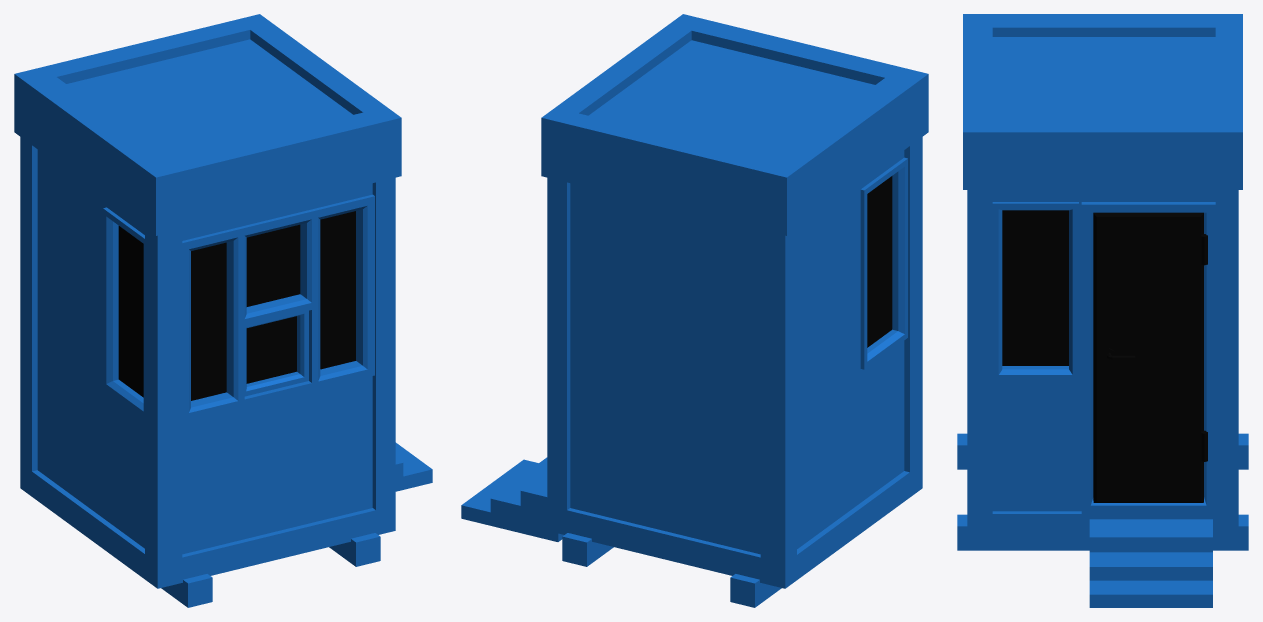
The model's file is HALF_security_booth.fbx.
3 views of the same model, side by side, from view 1: azimuth 30°, elevation 25°; view 2: azimuth 150°, elevation 25°; view 3: azimuth 270°, elevation 25° (orthographic).
Parts seen in each view (by area): view 1: Cube_9; view 2: Cube_9; view 3: Cube_9, Cylinder_1.
Boxes of the visible parts, x1,y1,x2,y2 form: Cube_9: (14,14,432,607); Cube_9: (461,14,928,607); Cube_9: (957,14,1248,607); Cylinder_1: (1093,212,1207,502).
Size of the model in its own units: 244 by 297 by 183.
